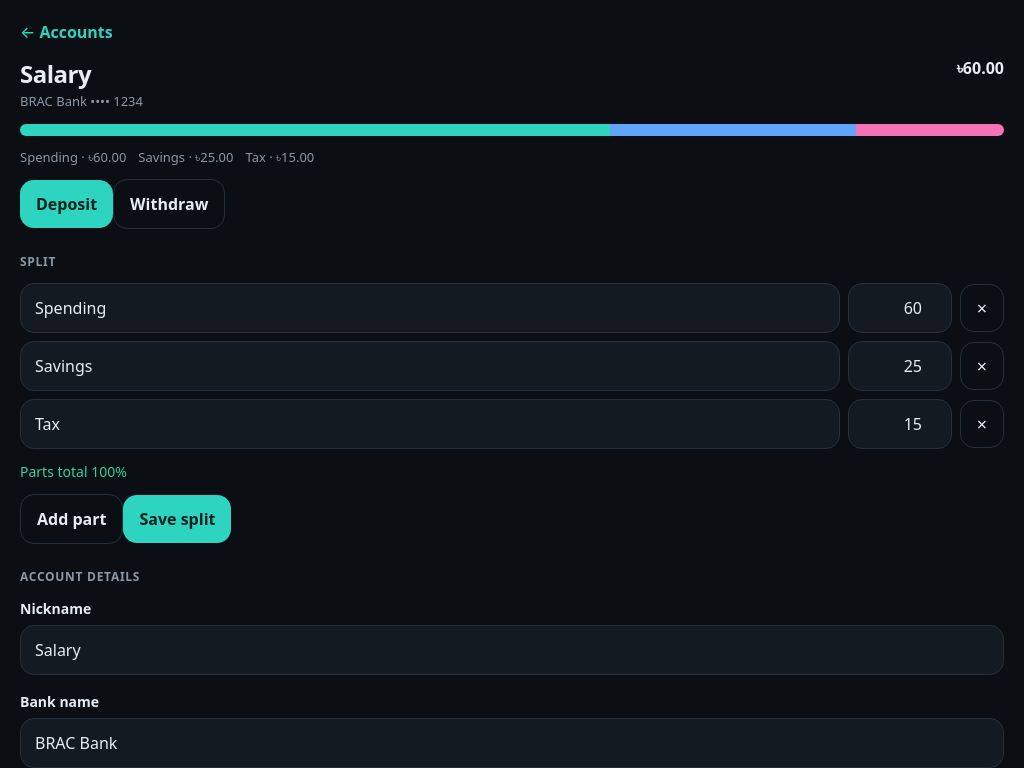
Test: deposit sheet › requires acknowledging the warning for a single-part deposit
Expected: the heading "Salary" is shown, [20,57,91,90]
Click the button "Deposit" at (67, 204), box [20,180,113,228]
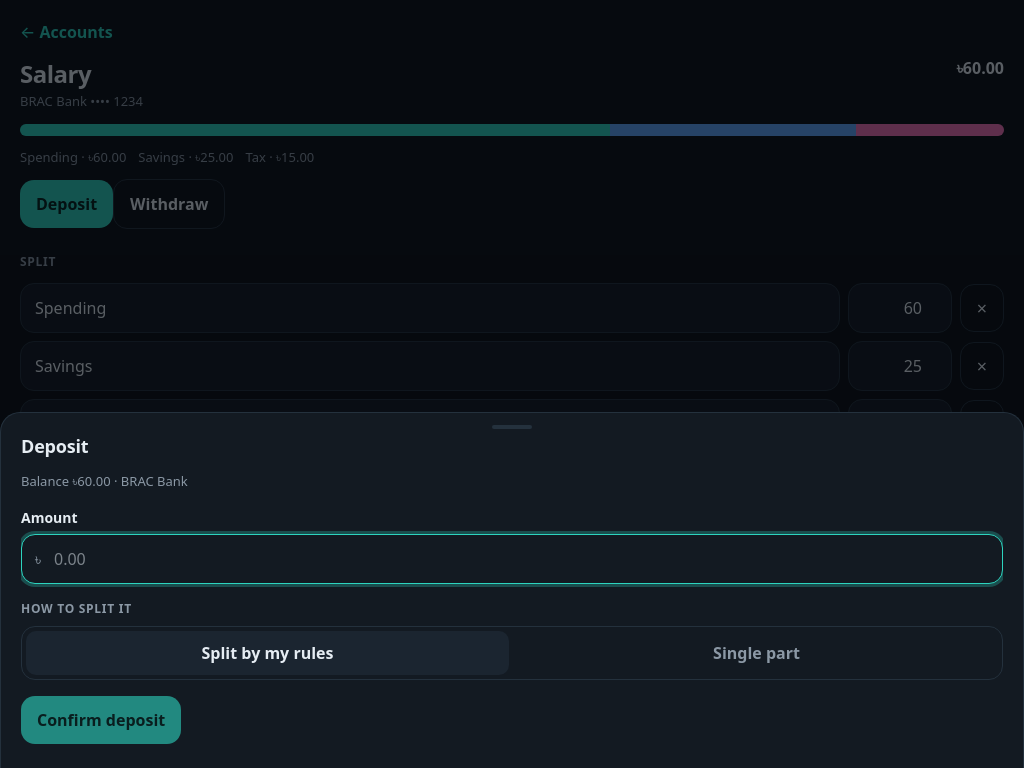
Type "10" into the field labelled "Amount" at (512, 559), box [21,534,1003,584]
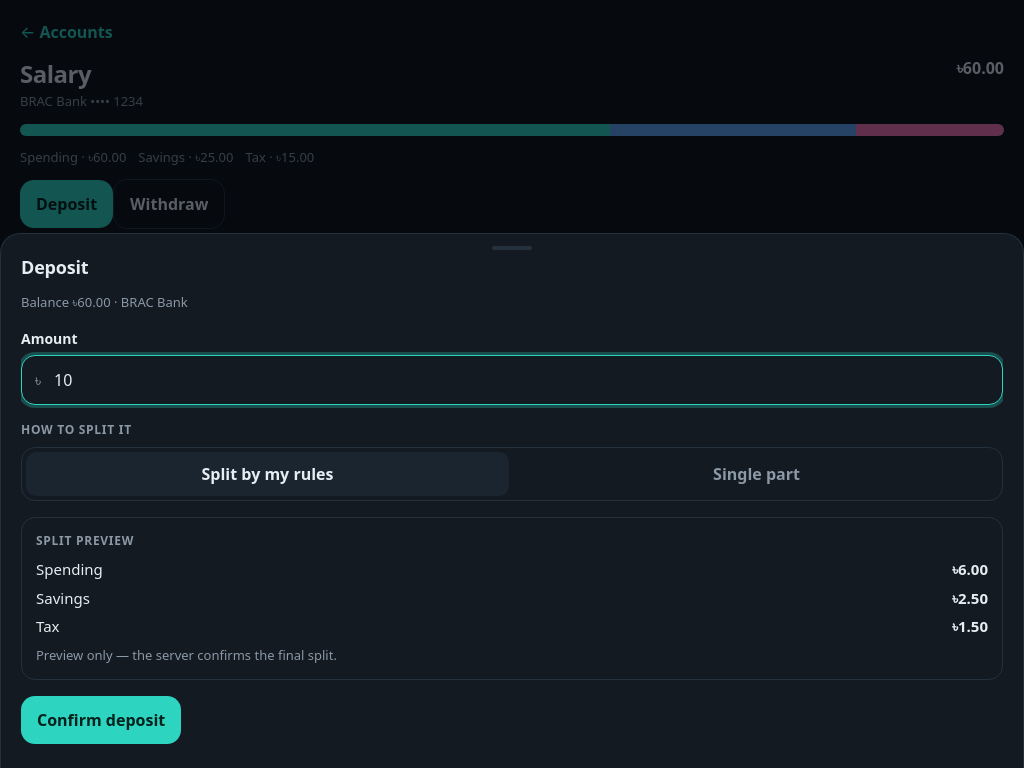
Click the button "Single part" at (756, 474), box [515,452,998,496]
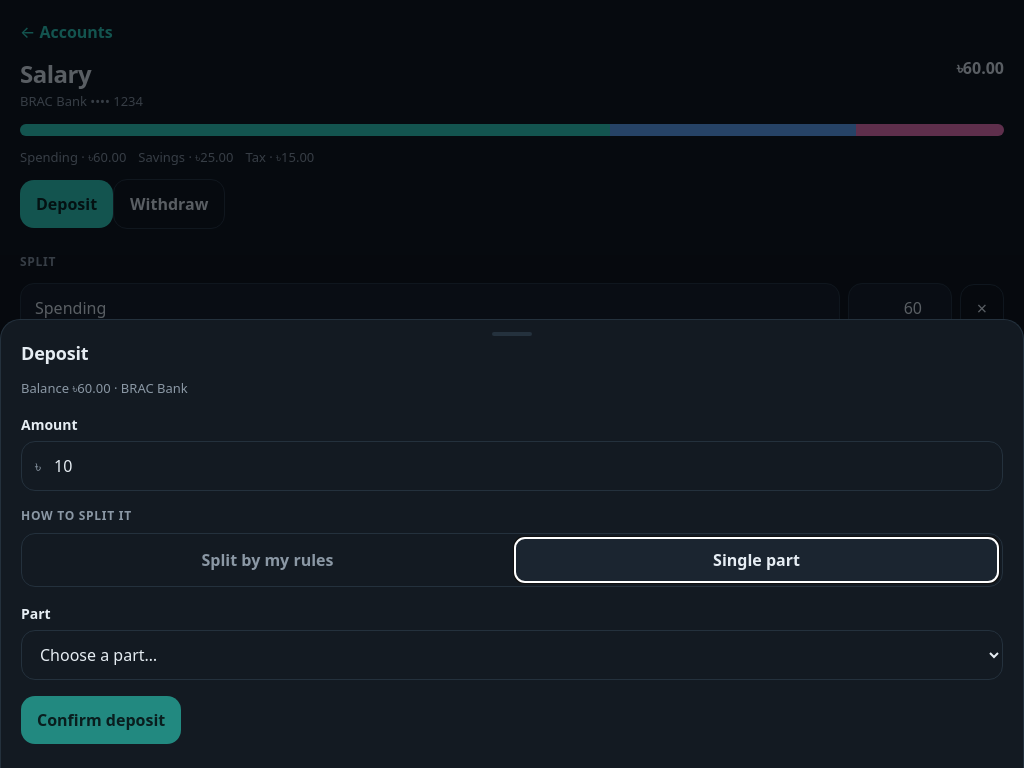
Select "Spending (60%)" in the dropdown labelled "Part" at (512, 655), box [21,630,1003,680]
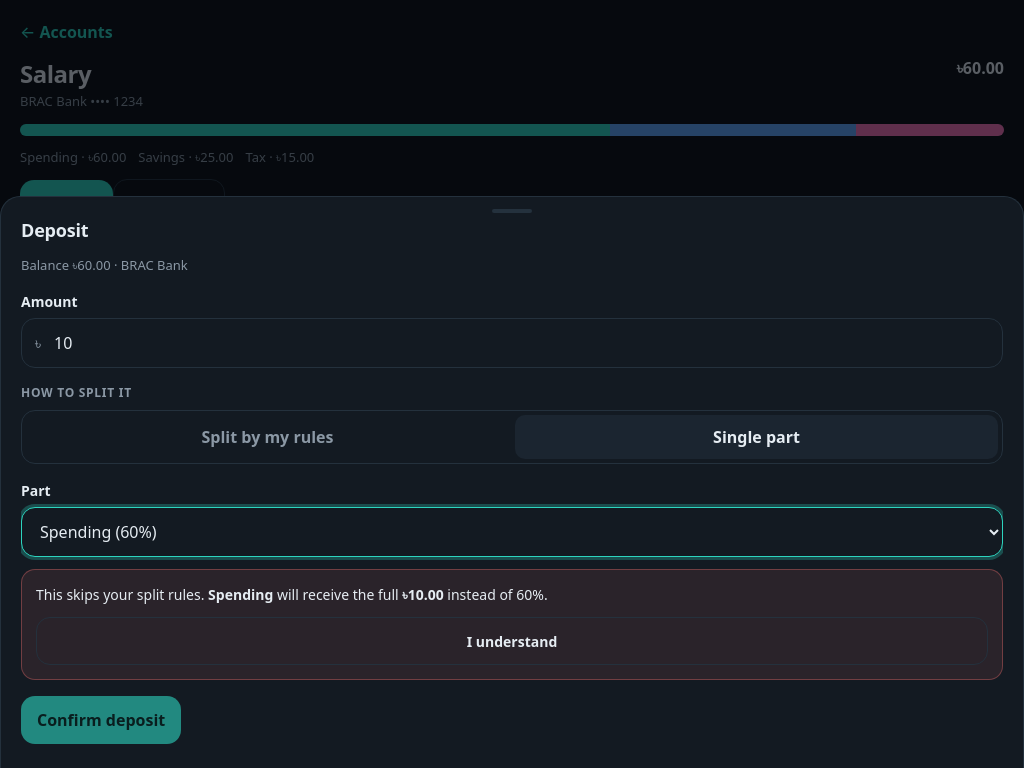
Expected: the button "Confirm deposit" is disabled, [21,696,181,744]
Expected: the text "skips your split rules" is shown, [36,585,208,604]
Click the button "I understand" at (512, 641), box [36,617,988,665]
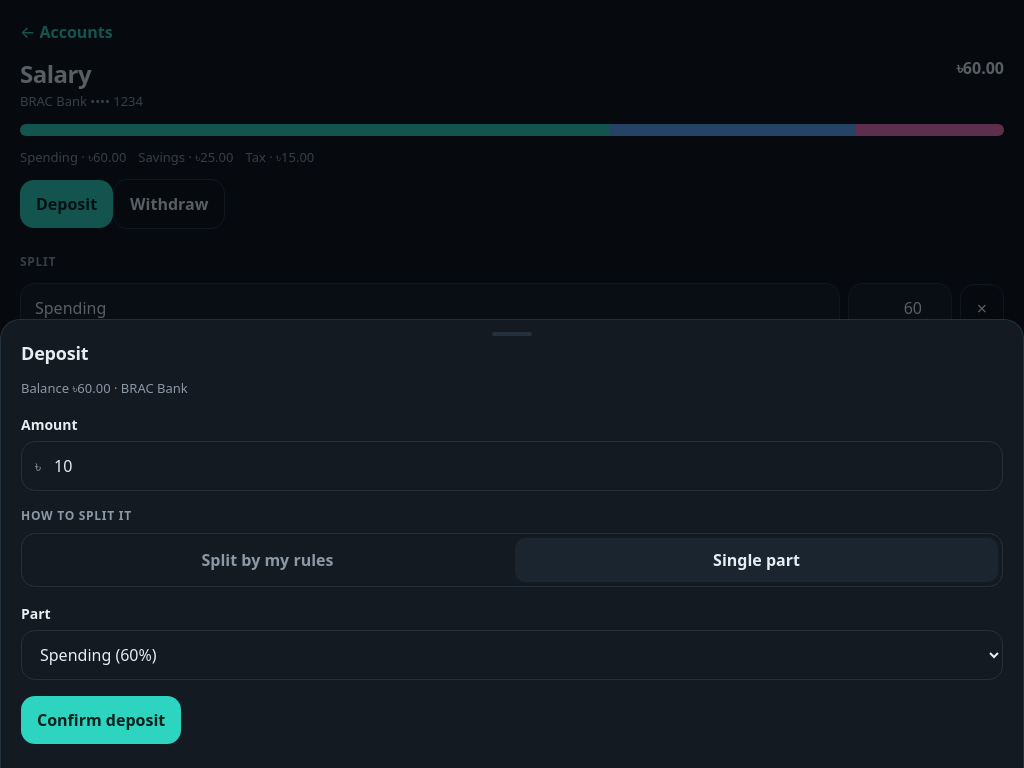
Expected: the button "Confirm deposit" is enabled, [21,696,181,744]
